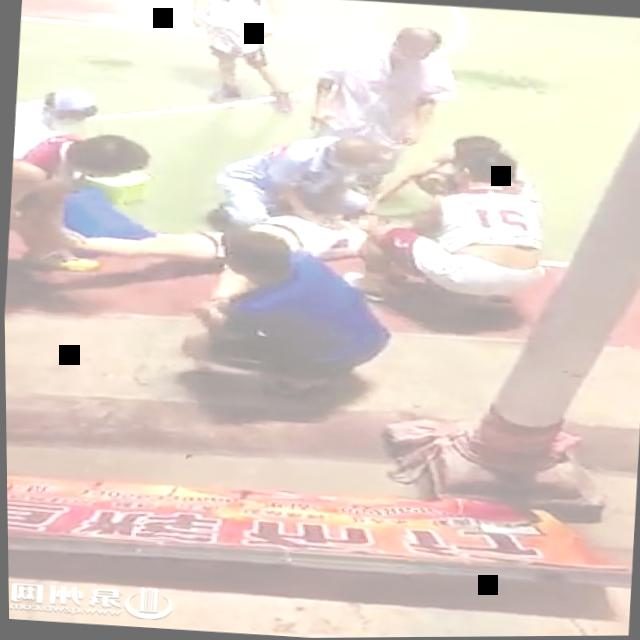Fall-Detected: (37, 180, 421, 310)
